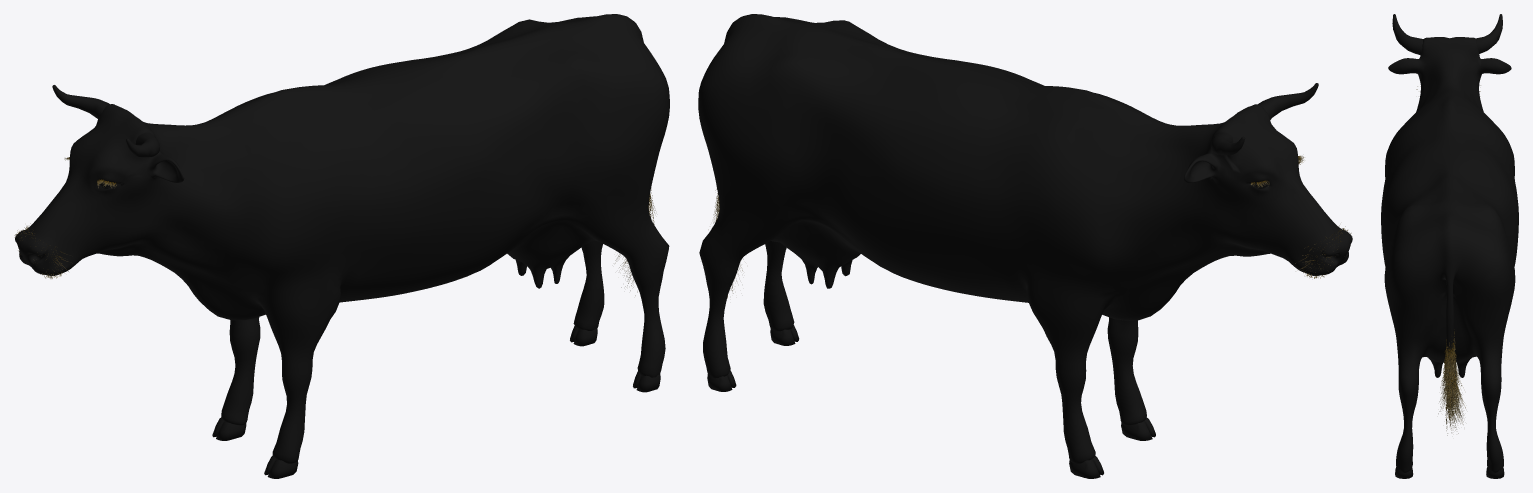
Rendered from cow.fbx.
The picture shows the model from 3 angles, left to right: view 1: azimuth 30°, elevation 25°; view 2: azimuth 150°, elevation 25°; view 3: azimuth 270°, elevation 25°; orthographic projection. The views are drawn at different scales.
Parts seen in each view (by area): view 1: Spotted cow-001; view 2: Spotted cow-001; view 3: Spotted cow-001, Spotted cow-005.
Part boxes in pixels (x1=…): Spotted cow-001: x1=15, y1=14, x2=669, y2=478; Spotted cow-001: x1=698, y1=14, x2=1352, y2=478; Spotted cow-001: x1=1381, y1=14, x2=1518, y2=478; Spotted cow-005: x1=1438, y1=331, x2=1465, y2=435.
Size of the model in its own units: 76.56 by 43.62 by 19.65.
